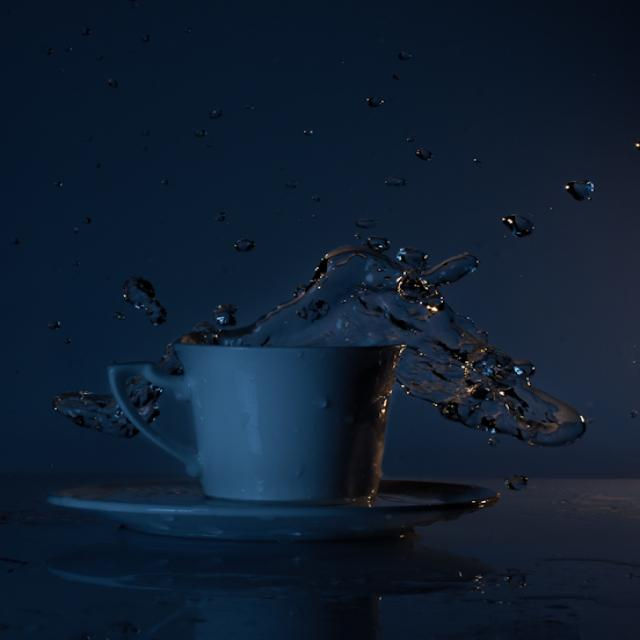Cup: (74, 345, 471, 574)
